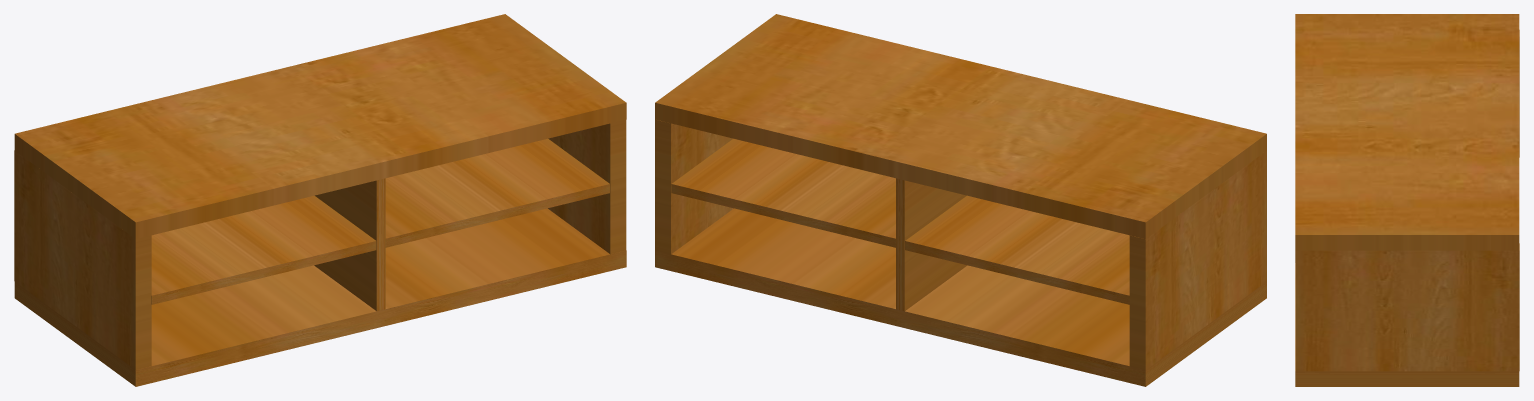
Rendered from meubleHiFiBas.glb.
The picture shows the model from 3 angles, left to right: view 1: azimuth 30°, elevation 25°; view 2: azimuth 150°, elevation 25°; view 3: azimuth 270°, elevation 25°; orthographic projection. The views are drawn at different scales.
Visible parts, largest first — view 1: meubleHiFiBas; view 2: meubleHiFiBas; view 3: meubleHiFiBas.
Boxes of the visible parts, x1,y1,x2,y2 form: meubleHiFiBas: (14, 14, 626, 386); meubleHiFiBas: (655, 14, 1266, 386); meubleHiFiBas: (1295, 14, 1519, 386).
Size of the model in its own units: 1.04 by 0.3326 by 0.4445.
1 material, 1 textured.
